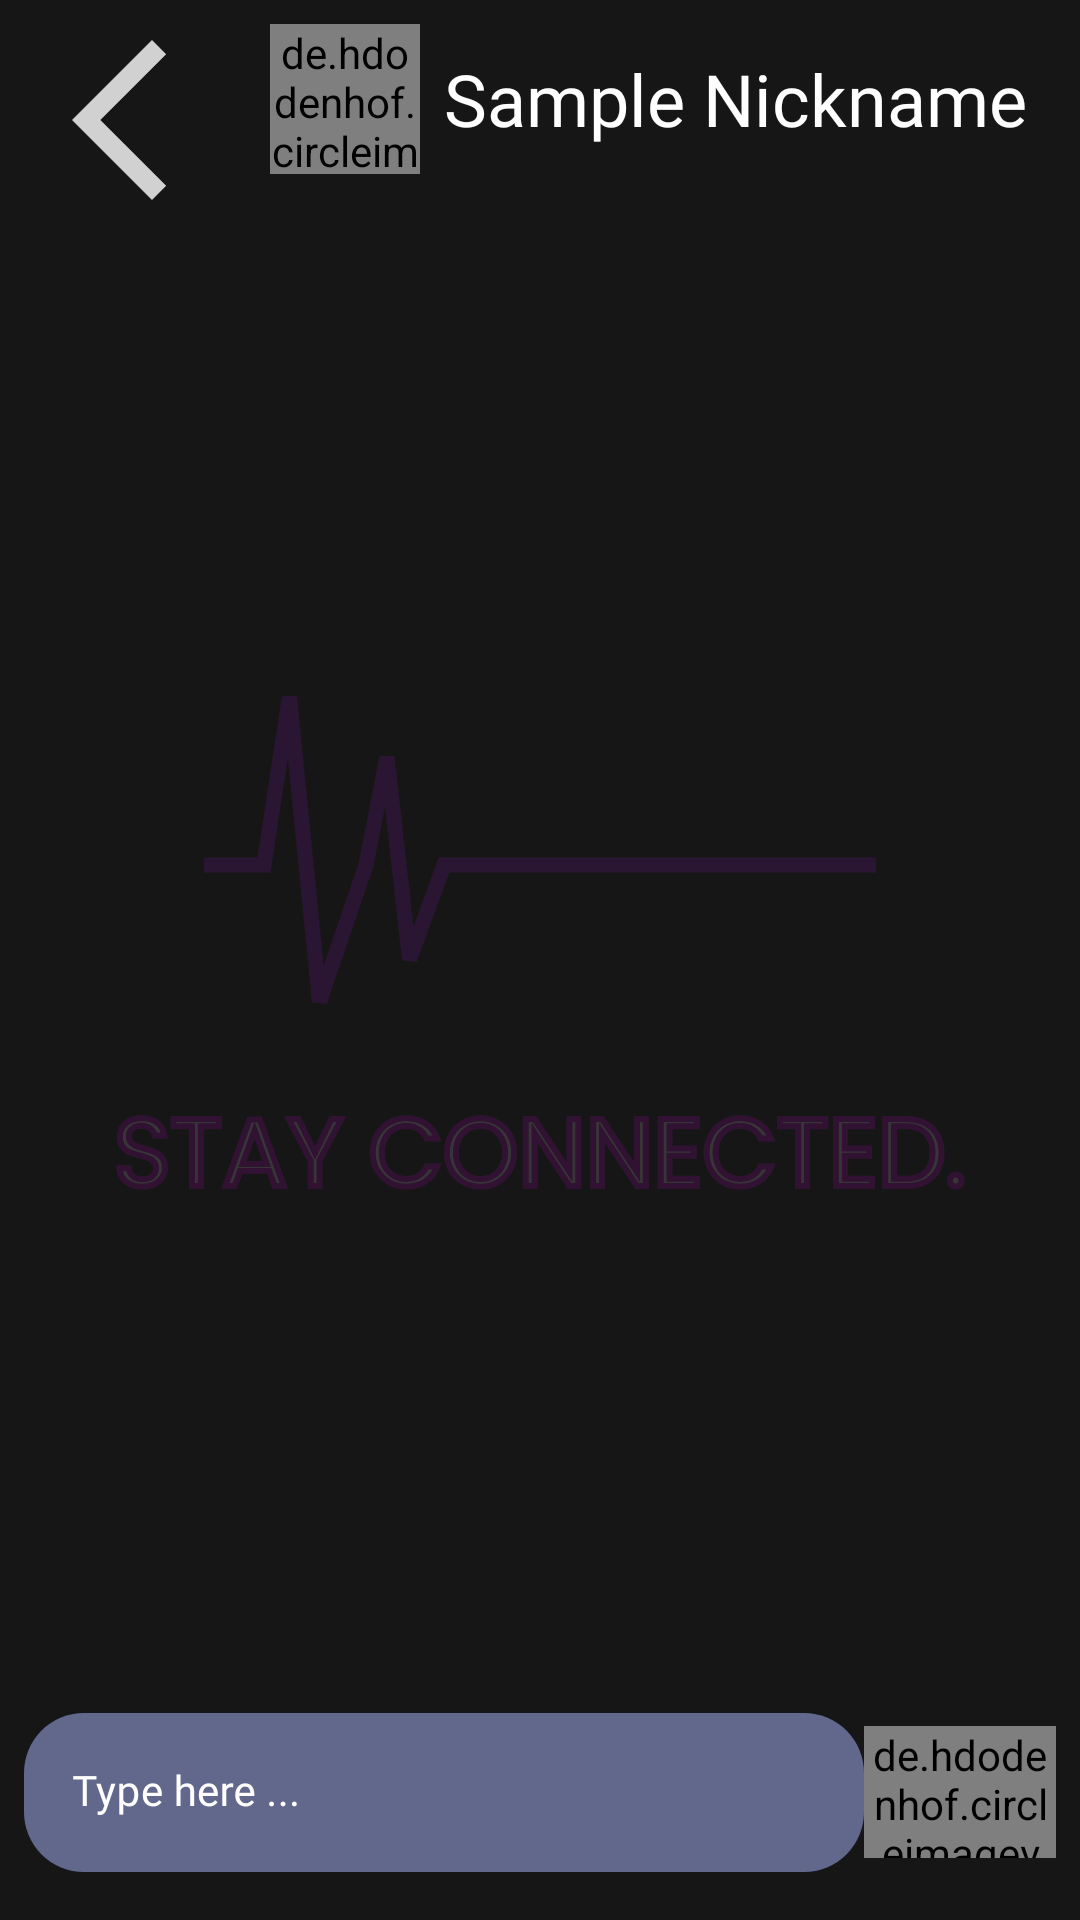

Where to tap for icons on this 1080 x 1920 app screen, as (x,y):
arrow back: (119,120)
